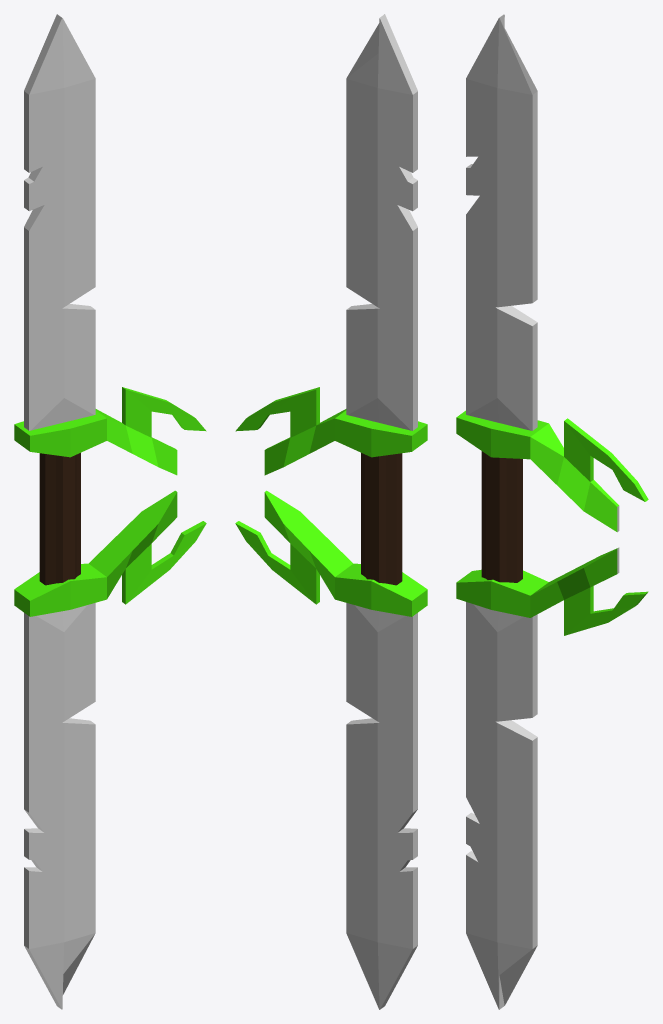
The model's file is glevia.fbx.
3 renders of one model, left to right at view 1: azimuth 30°, elevation 25°; view 2: azimuth 150°, elevation 25°; view 3: azimuth 330°, elevation 25°, orthographic.
Visible parts, largest first — view 1: Cube.006; view 2: Cube.006; view 3: Cube.006.
Part boxes in pixels (bbox=[...]): Cube.006: bbox=[14, 14, 206, 1009]; Cube.006: bbox=[235, 14, 427, 1009]; Cube.006: bbox=[456, 14, 648, 1009].
Size of the model in its own units: 48.81 by 253 by 9.87.
